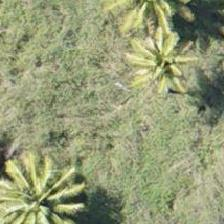coconut_tree: (96, 0, 186, 52), (0, 167, 71, 223)
